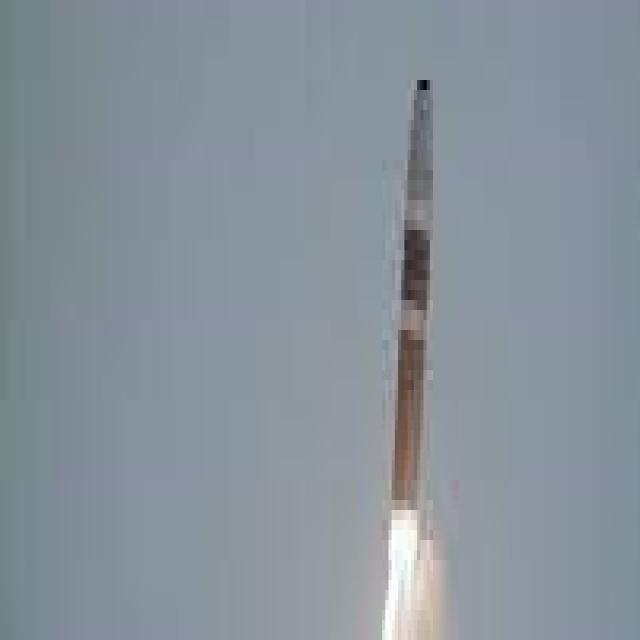missile: (396, 74, 436, 507)
